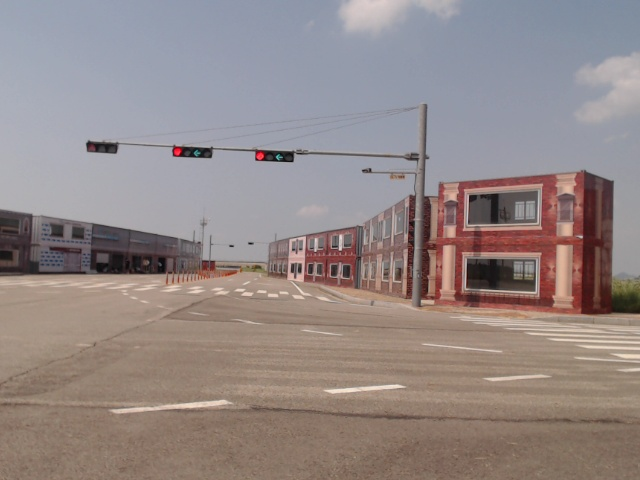left_green_4: (256, 151, 293, 163), (173, 147, 212, 158)
